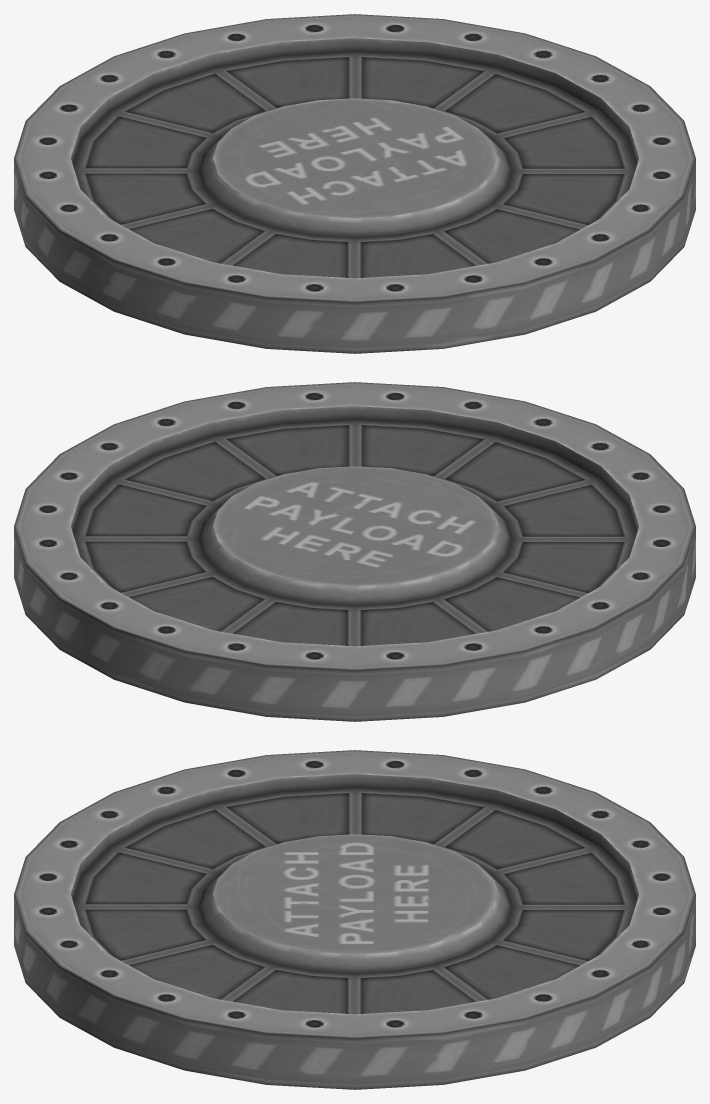
Rendered from canopus_fairing_s1p2_1.obj.
The picture shows the model from 3 angles, top to bottom: view 1: azimuth 30°, elevation 25°; view 2: azimuth 150°, elevation 25°; view 3: azimuth 270°, elevation 25°; orthographic projection.
Visible parts, largest first — view 1: canopus_fairing_s1_1; view 2: canopus_fairing_s1_1; view 3: canopus_fairing_s1_1.
Part boxes in pixels (left/top/right/bottom): canopus_fairing_s1_1: left=14, top=14, right=695, bottom=353; canopus_fairing_s1_1: left=14, top=382, right=695, bottom=721; canopus_fairing_s1_1: left=14, top=750, right=695, bottom=1089.
Size of the model in its own units: 1.5 by 0.125 by 1.5.
